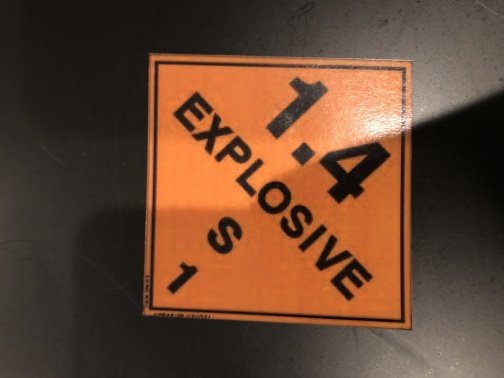Explosive: (148, 54, 413, 326)
